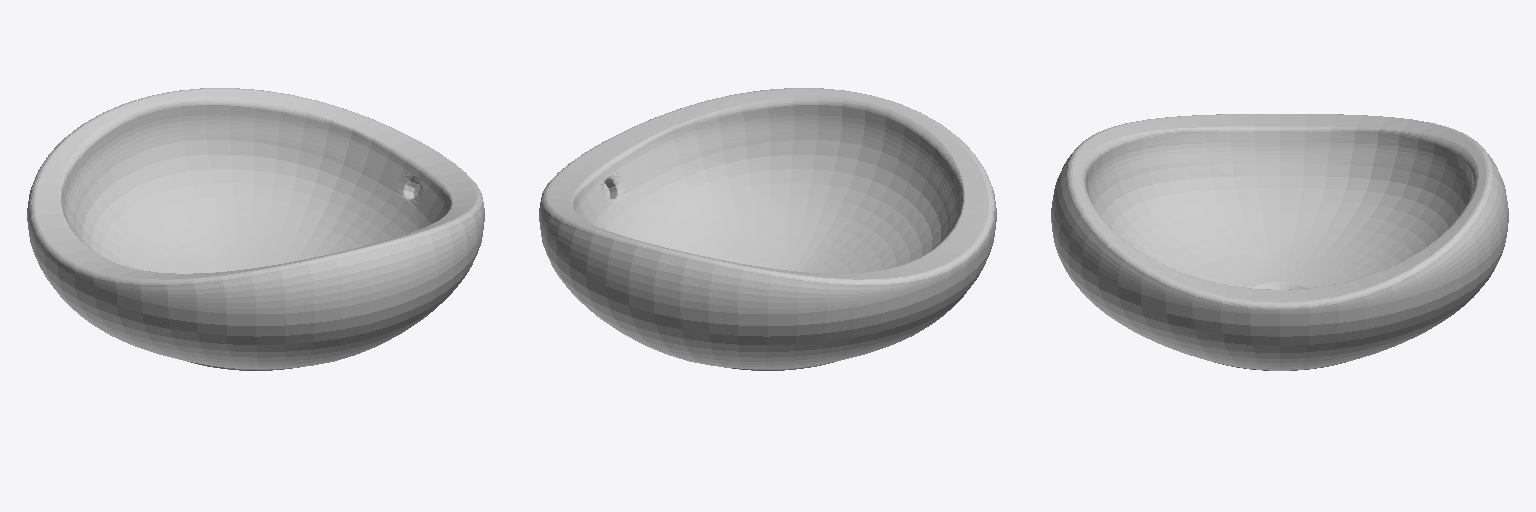
The model's file is Sink.obj.
The picture shows the model from 3 angles: view 1: azimuth 30°, elevation 25°; view 2: azimuth 150°, elevation 25°; view 3: azimuth 270°, elevation 25°; orthographic projection.
Parts seen in each view (by area): view 1: 20._Sink_3d-model.001; view 2: 20._Sink_3d-model.001; view 3: 20._Sink_3d-model.001.
Part boxes in pixels (x1,y1,x2,y2): 20._Sink_3d-model.001: (27,88,484,370); 20._Sink_3d-model.001: (539,88,996,370); 20._Sink_3d-model.001: (1051,114,1508,370).
Bounding box in the file's own units: 2.65 × 1.06 × 2.65.